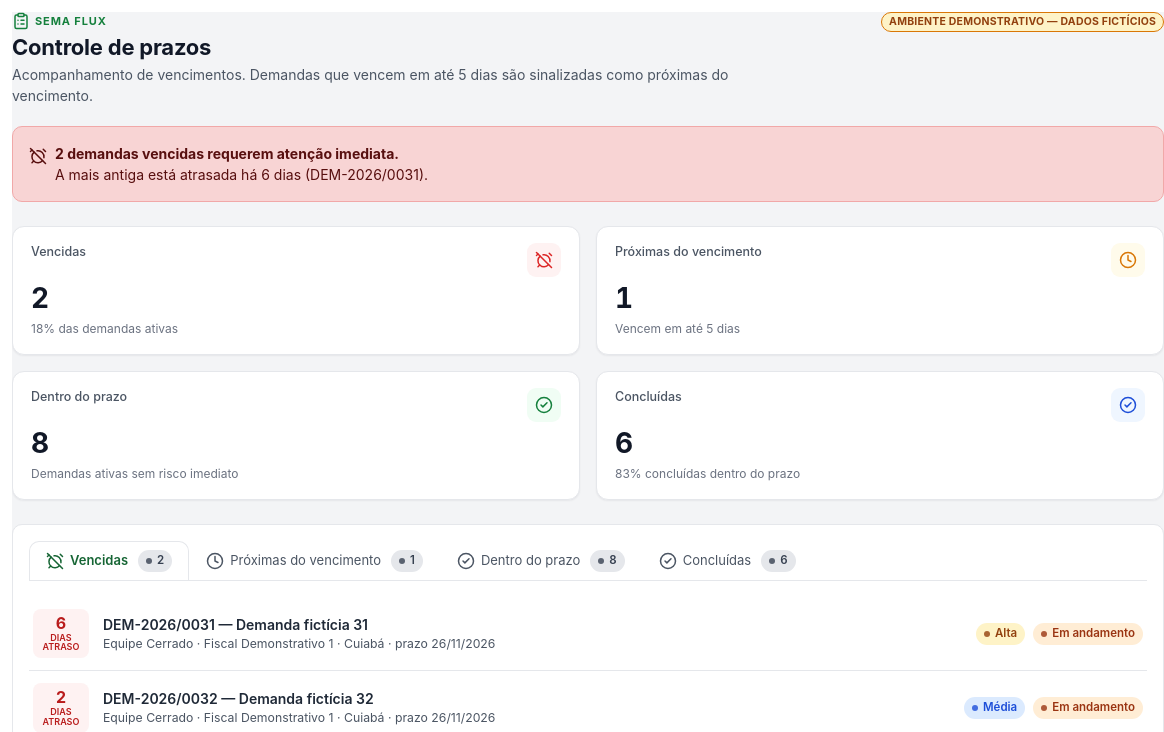
Test: PrazosPage › mostra estado vazio na aba sem demandas
What coordinates should you click on to do the following:
click the tab "Concluídas 6"
I would click on:
 (727, 561)
Its box is [642,541,813,581].
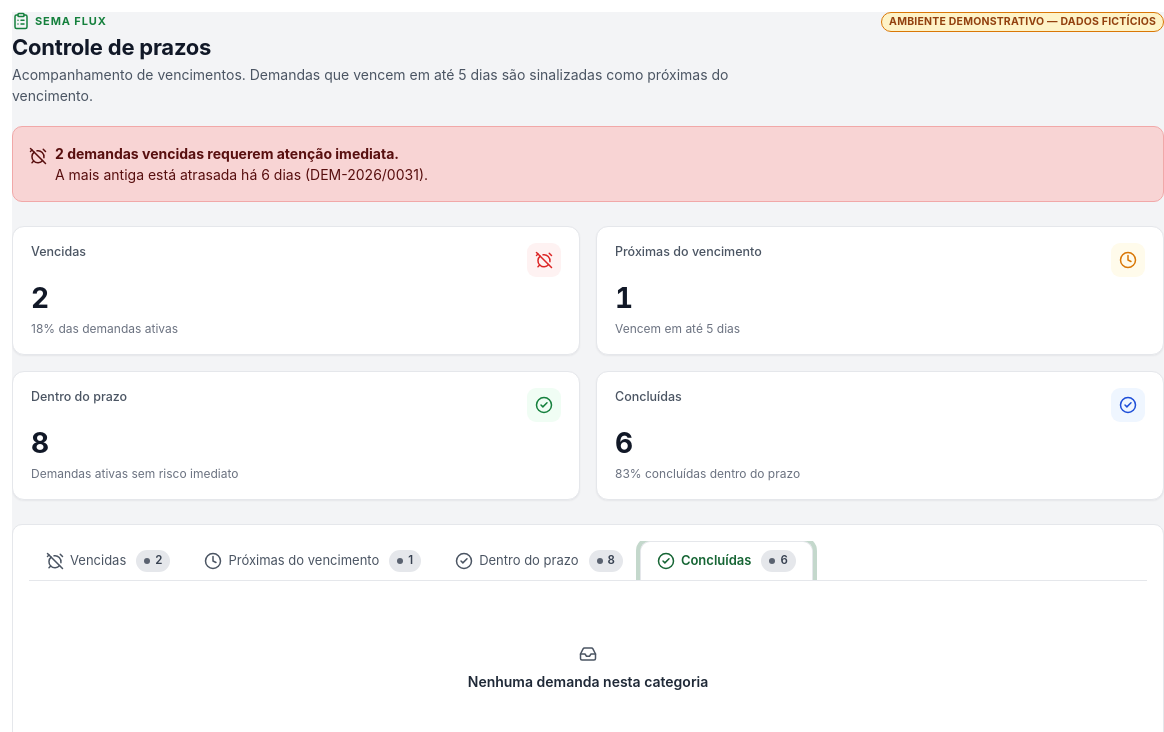
Check: the text "Nenhuma demanda nesta categoria" is shown, box [468,673,708,690]
